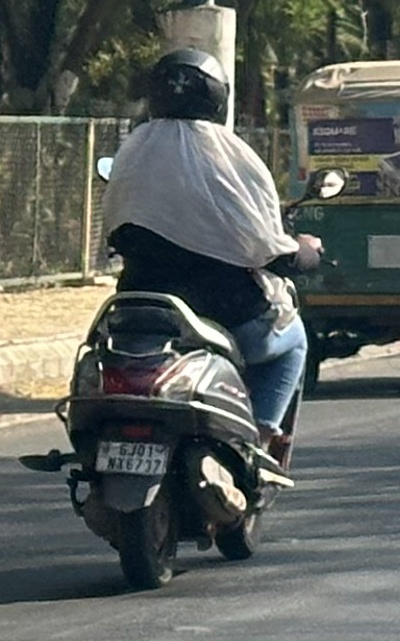BikeWithRider: (32, 46, 350, 594)
Helmet: (141, 46, 230, 132)
